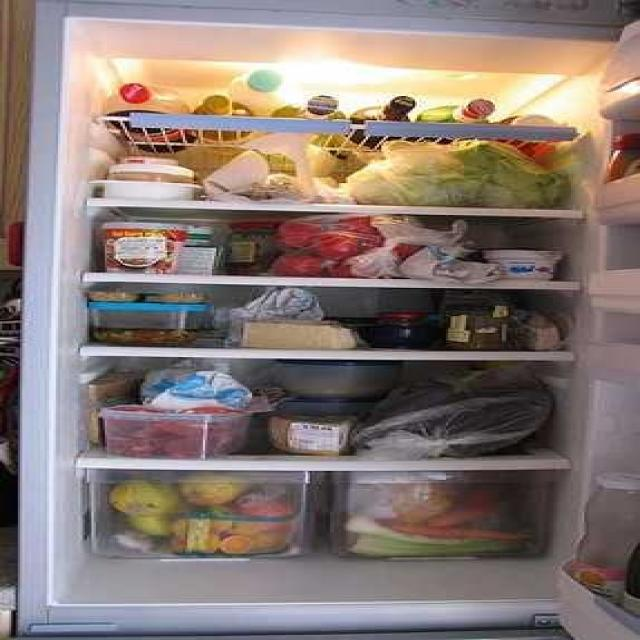refrigerator: (19, 1, 640, 636)
